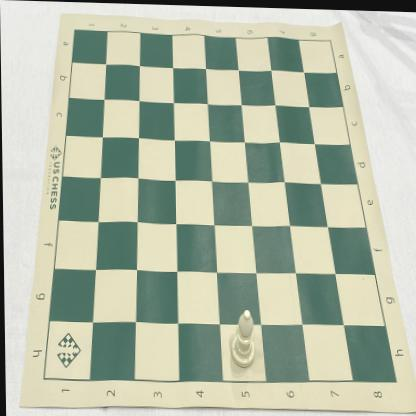white-bishop: (230, 308, 255, 368)
